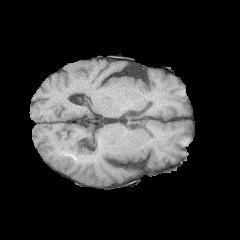glioma: (58, 143, 89, 163)
